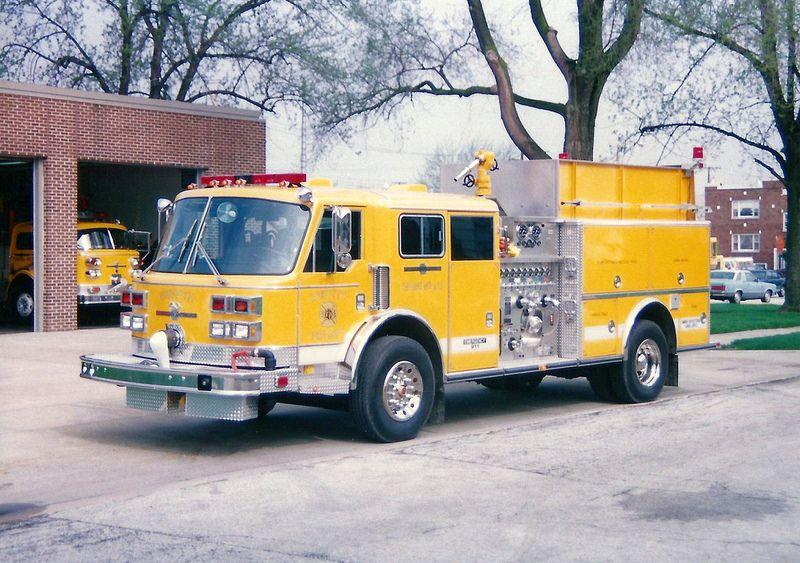firetruck_off: (78, 144, 714, 443)
